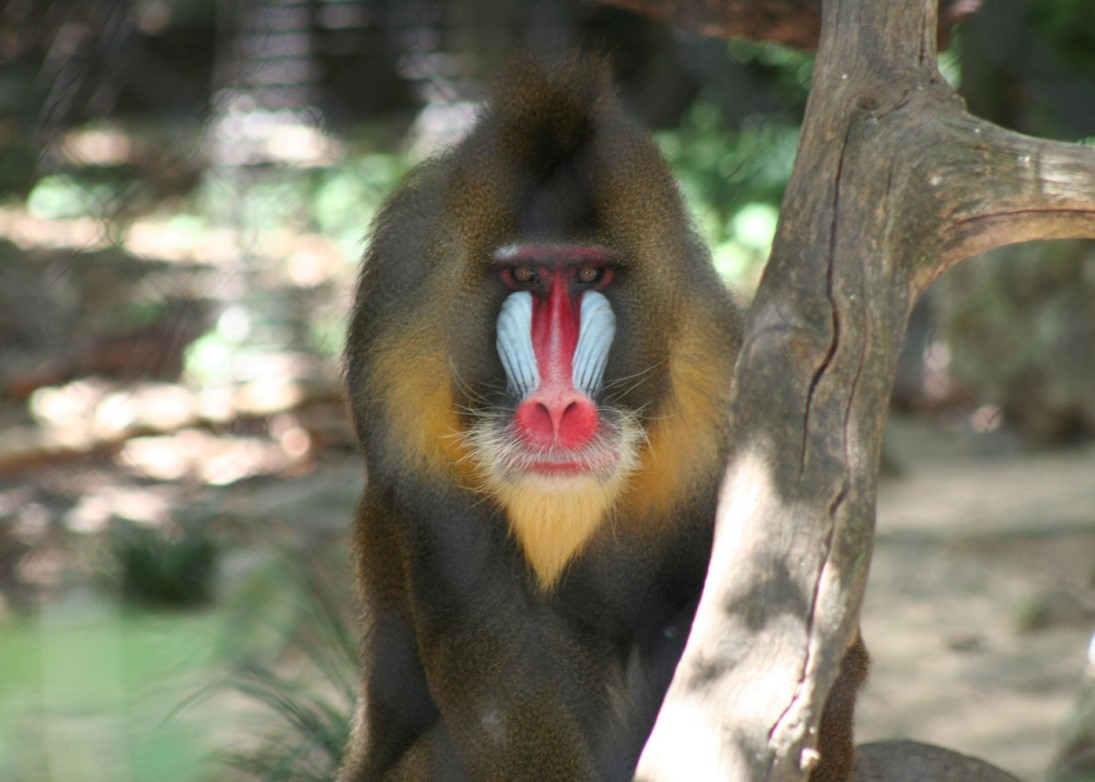Mandrill: (355, 85, 697, 782)
